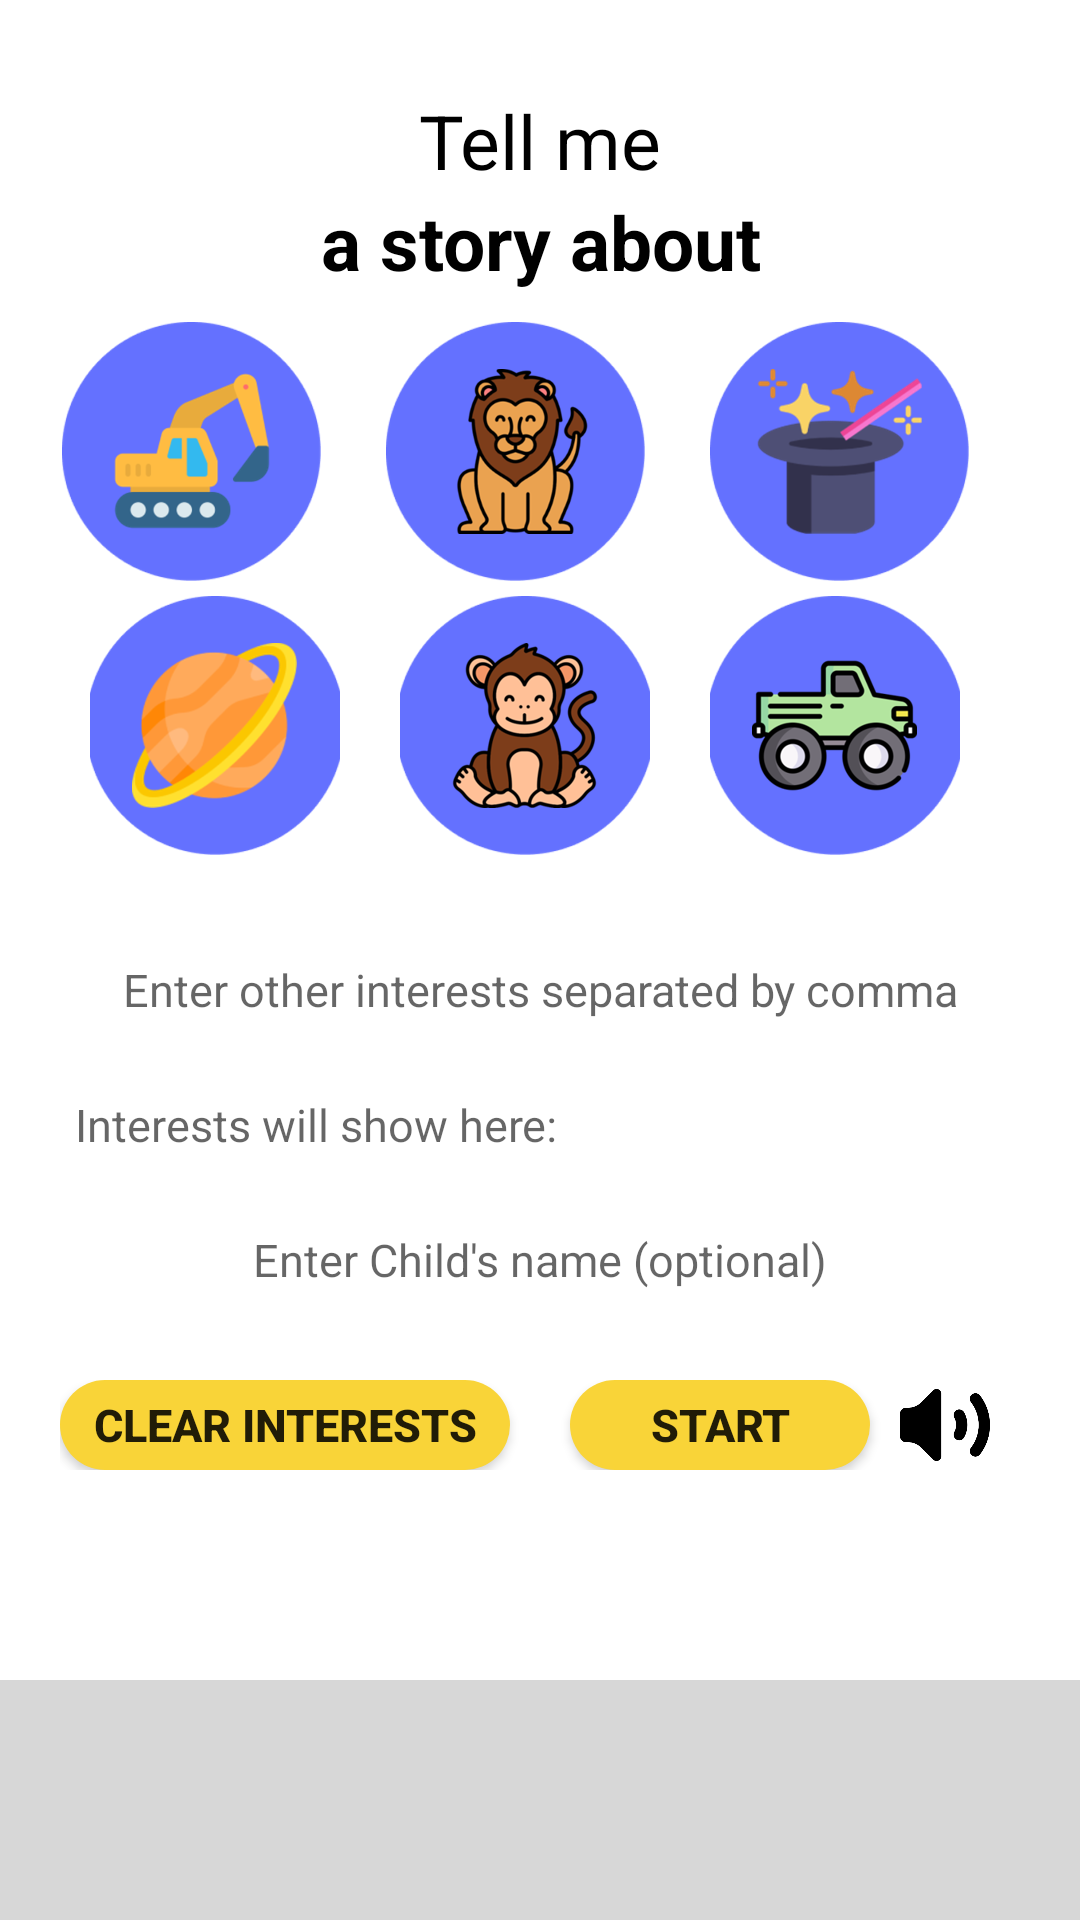

Icon click points for this 1080px x 1920px phone screenshot, format point (x, y):
volumeicon: point (945, 1425)
